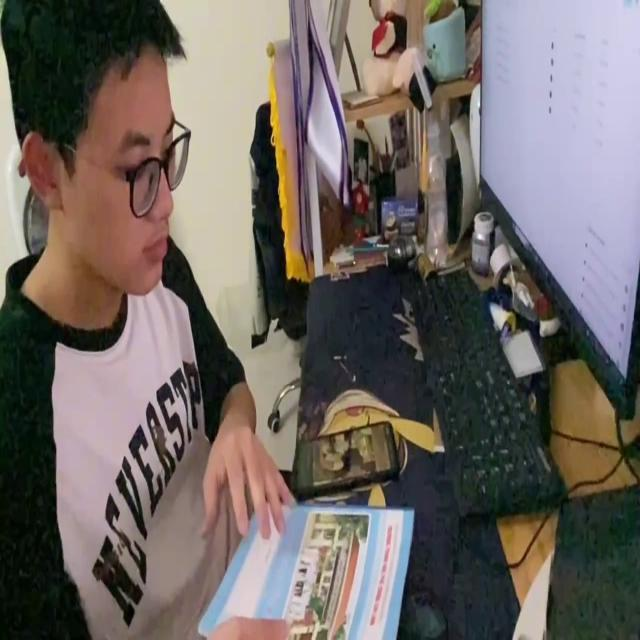book: (193, 495, 415, 640)
laptop: (477, 1, 640, 415)
phone: (290, 418, 402, 492)
student: (0, 0, 301, 640)
